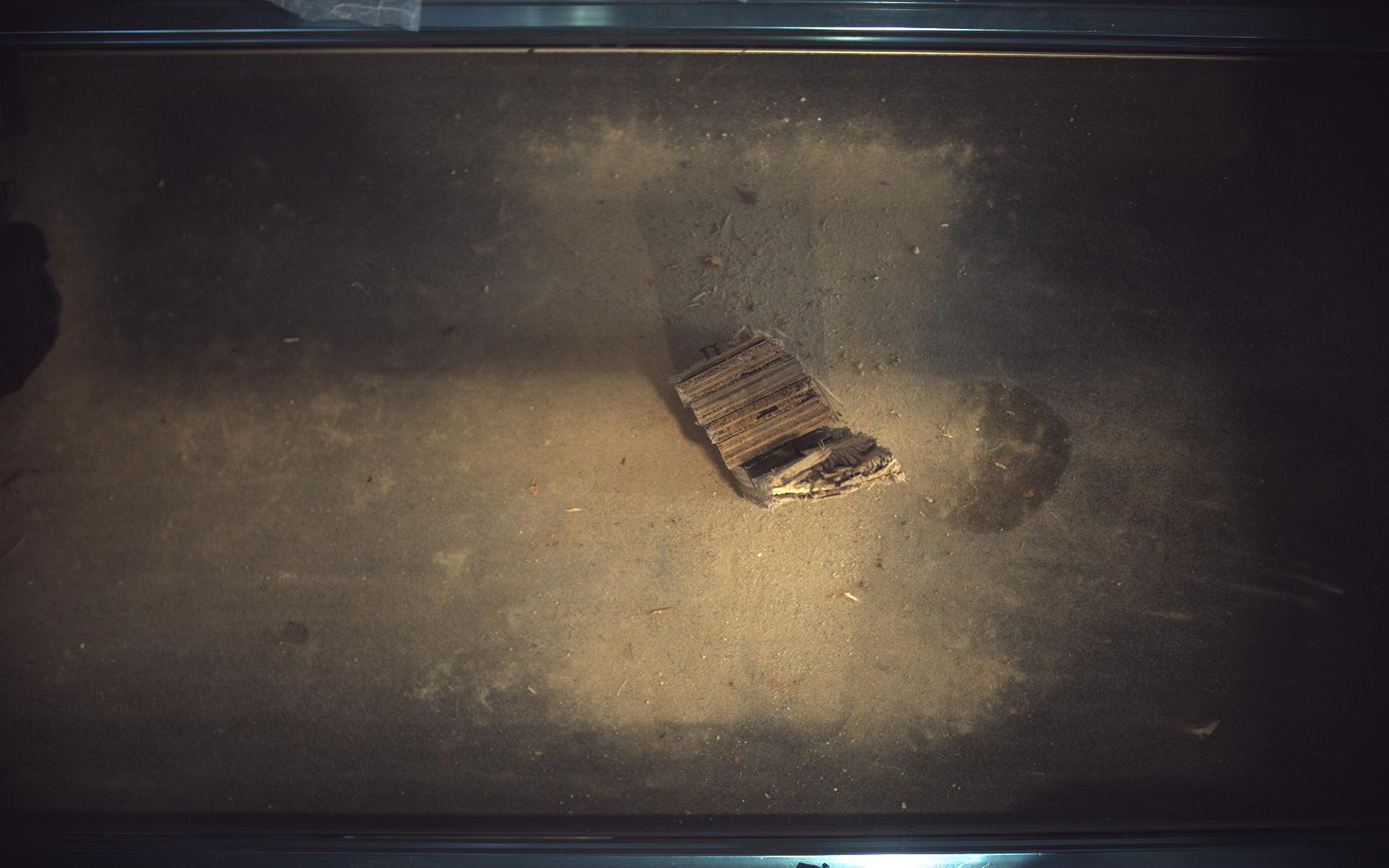wood: (673, 330, 906, 508)
